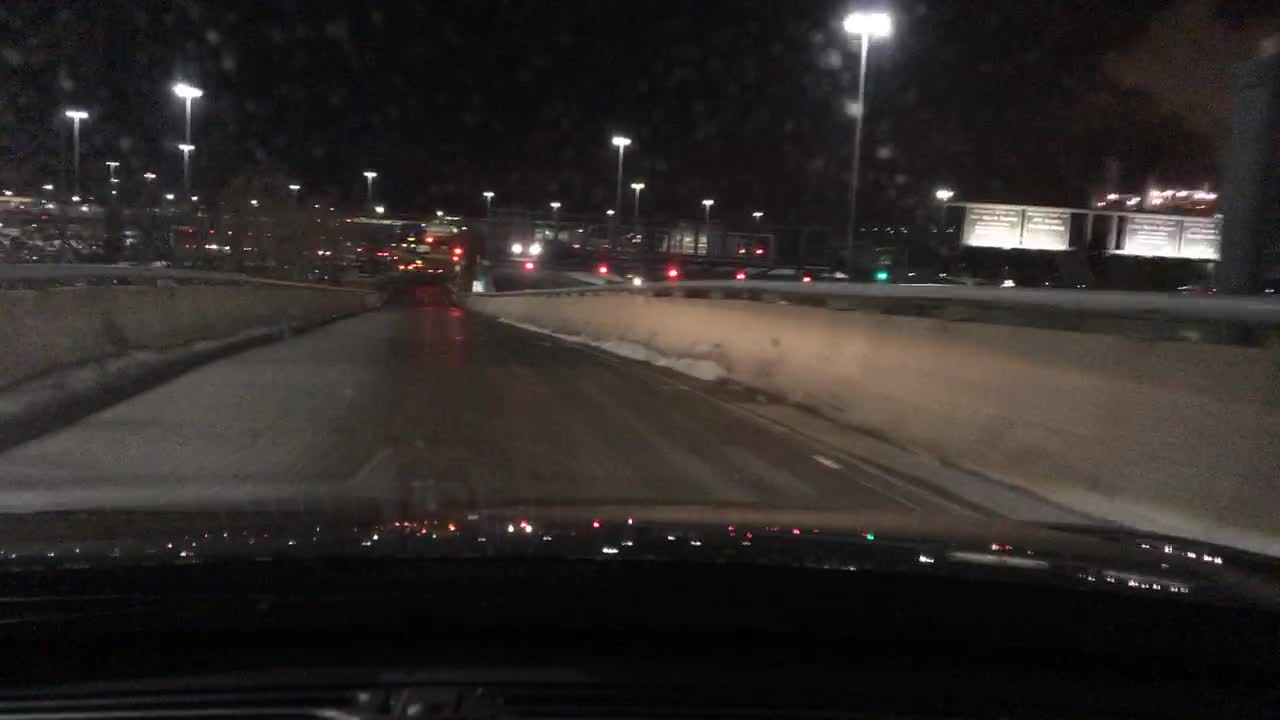car: (737, 232, 810, 261), (573, 226, 631, 261), (665, 227, 717, 254), (502, 232, 545, 262), (528, 224, 577, 248), (425, 266, 444, 276), (376, 249, 393, 259), (411, 259, 425, 271), (398, 263, 411, 271)
traffic light: (523, 253, 535, 273), (666, 259, 676, 280), (877, 263, 886, 285), (454, 239, 462, 261), (800, 268, 810, 285), (597, 261, 607, 276), (735, 264, 742, 280)
traffic sign: (955, 204, 1023, 250), (1117, 212, 1182, 259), (1019, 205, 1071, 252), (1179, 218, 1221, 262), (423, 219, 455, 236)
